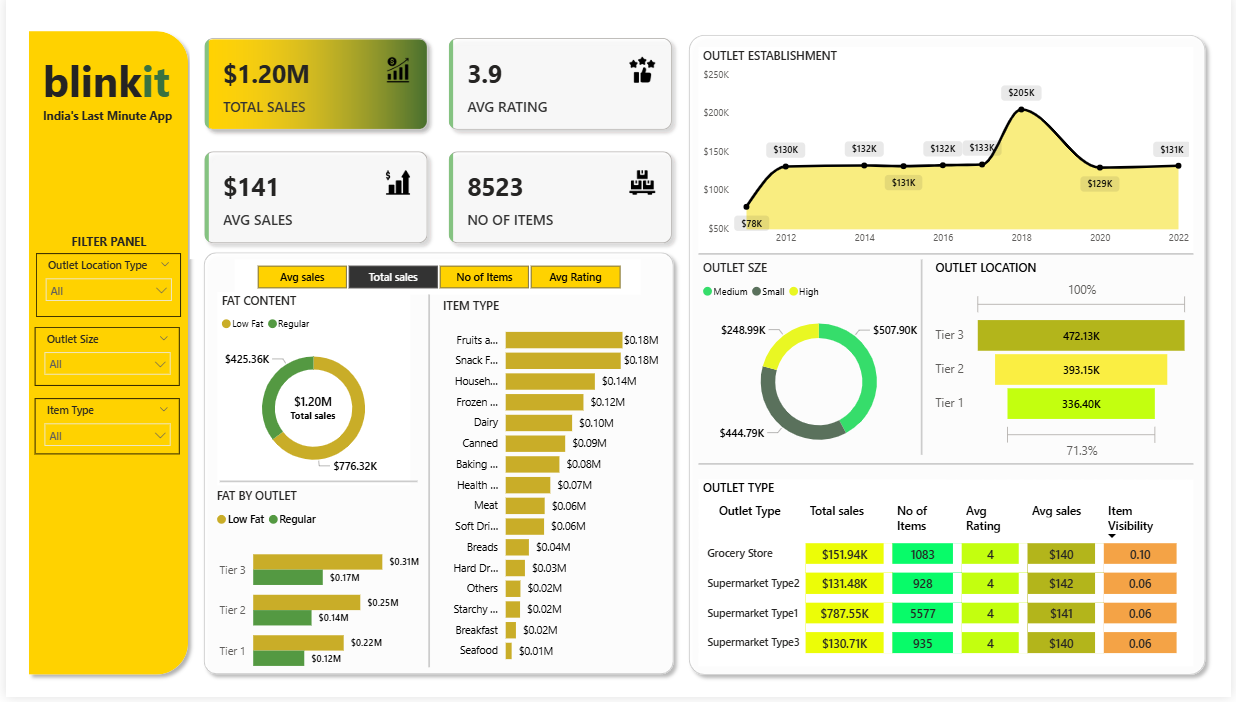

The dashboard page shown, as its layout file describes it:
{"tool":"powerbi","page":{"name":"Page 1","canvas":[1400,800],"ordinal":0},"visuals":[{"type":"shape","box":[16.4,30.1,200,753.4],"z":0},{"type":"textbox","box":[37.8,57.4,178.6,79.5],"z":1000},{"type":"textbox","box":[37.8,121.3,165.6,31.3],"z":2000},{"type":"cardVisual","fields":{"Data":["BlinkIT Grocery Data.Total sales","BlinkIT Grocery Data.Avg Rating","BlinkIT Grocery Data.Avg sales","BlinkIT Grocery Data.No of Items"]},"box":[209.6,30.1,569.9,269.9],"z":3000},{"type":"shape","box":[216.4,283.6,554.8,500],"z":4000},{"type":"donutChart","title":"FAT CONTENT","fields":{"Y":["BlinkIT Grocery Data.Total sales"],"Category":["BlinkIT Grocery Data.Item Fat Content"]},"box":[241.1,337,220.5,220.5],"z":5000},{"type":"slicer","fields":{"Values":["Metrics.Metrics"]},"box":[261.6,300,464.4,39.7],"z":6000},{"type":"cardVisual","fields":{"Data":["BlinkIT Grocery Data.Total sales"]},"box":[287.7,428.8,127.4,80.8],"z":7000},{"type":"clusteredBarChart","title":"FAT BY OUTLET","fields":{"Y":["BlinkIT Grocery Data.Total sales"],"Category":["BlinkIT Grocery Data.Outlet Location Type"],"Series":["BlinkIT Grocery Data.Item Fat Content"]},"box":[235.6,560.3,242.5,230.1],"z":8000},{"type":"shape","box":[243.8,469.9,226,167.1],"z":9000},{"type":"shape","box":[434.2,339.7,98.6,426],"z":10000},{"type":"barChart","title":"ITEM TYPE","fields":{"Y":["BlinkIT Grocery Data.Total sales"],"Category":["BlinkIT Grocery Data.Item Type"]},"box":[494.5,342.5,256.2,428.8],"z":11000},{"type":"shape","box":[771.2,34.2,608.2,749.3],"z":12000},{"type":"lineChart","title":"OUTLET ESTABLISHMENT","fields":{"Category":["BlinkIT Grocery Data.Outlet Establishment Year"],"Y":["BlinkIT Grocery Data.Total sales"]},"box":[791.8,57.5,565.8,235.6],"z":13000},{"type":"shape","box":[791.8,209.6,565.8,167.1],"z":14000},{"type":"donutChart","title":"OUTLET SZE","fields":{"Y":["BlinkIT Grocery Data.Total sales"],"Category":["BlinkIT Grocery Data.Outlet Size"]},"box":[791.8,300,275.3,234.2],"z":15000},{"type":"shape","box":[997.3,300,98.6,223.3],"z":16000},{"type":"funnel","title":"OUTLET LOCATION","fields":{"Category":["BlinkIT Grocery Data.Outlet Location Type"],"Y":["Sum(BlinkIT Grocery Data.Sales)"]},"box":[1057.5,300,300,234.2],"z":17000},{"type":"shape","box":[791.8,450.7,565.8,167.1],"z":18000},{"type":"pivotTable","title":"OUTLET TYPE","fields":{"Rows":["BlinkIT Grocery Data.Outlet Type"],"Values":["BlinkIT Grocery Data.Total sales","BlinkIT Grocery Data.No of Items","BlinkIT Grocery Data.Avg Rating","BlinkIT Grocery Data.Avg sales","Avg(BlinkIT Grocery Data.Item Visibility)"]},"box":[791.8,552.1,565.8,213.7],"z":19000},{"type":"slicer","fields":{"Values":["BlinkIT Grocery Data.Outlet Location Type"]},"box":[34.2,293.2,165.8,72.6],"z":20000},{"type":"slicer","fields":{"Values":["BlinkIT Grocery Data.Outlet Size"]},"box":[32.9,376.7,165.8,67.1],"z":21000},{"type":"slicer","fields":{"Values":["BlinkIT Grocery Data.Item Type"]},"box":[32.9,458.9,165.8,64.4],"z":22000},{"type":"textbox","box":[42.5,265.8,149.3,34.2],"z":23000}]}

Visuals, with their boxes in screenshot pixels (x1, y1, x2, y2), scaled from the page's 1400x800 canvas onto the 1236x702 screenshot:
shape: (left=14, top=26, right=191, bottom=688)
textbox: (left=33, top=50, right=191, bottom=120)
textbox: (left=33, top=106, right=180, bottom=134)
cardVisual - BlinkIT Grocery Data.Total sales x BlinkIT Grocery Data.Avg Rating: (left=185, top=26, right=688, bottom=263)
shape: (left=191, top=249, right=681, bottom=688)
"FAT CONTENT" donutChart: (left=213, top=296, right=408, bottom=489)
slicer - Metrics.Metrics: (left=231, top=263, right=641, bottom=298)
cardVisual - BlinkIT Grocery Data.Total sales: (left=254, top=376, right=366, bottom=447)
"FAT BY OUTLET" clusteredBarChart: (left=208, top=492, right=422, bottom=694)
shape: (left=215, top=412, right=415, bottom=559)
shape: (left=383, top=298, right=470, bottom=672)
"ITEM TYPE" barChart: (left=437, top=301, right=663, bottom=677)
shape: (left=681, top=30, right=1218, bottom=688)
"OUTLET ESTABLISHMENT" lineChart: (left=699, top=50, right=1199, bottom=257)
shape: (left=699, top=184, right=1199, bottom=331)
"OUTLET SZE" donutChart: (left=699, top=263, right=942, bottom=469)
shape: (left=880, top=263, right=968, bottom=459)
"OUTLET LOCATION" funnel: (left=934, top=263, right=1198, bottom=469)
shape: (left=699, top=395, right=1199, bottom=542)
"OUTLET TYPE" pivotTable: (left=699, top=484, right=1199, bottom=672)
slicer - BlinkIT Grocery Data.Outlet Location Type: (left=30, top=257, right=177, bottom=321)
slicer - BlinkIT Grocery Data.Outlet Size: (left=29, top=331, right=175, bottom=389)
slicer - BlinkIT Grocery Data.Item Type: (left=29, top=403, right=175, bottom=459)
textbox: (left=38, top=233, right=169, bottom=263)
